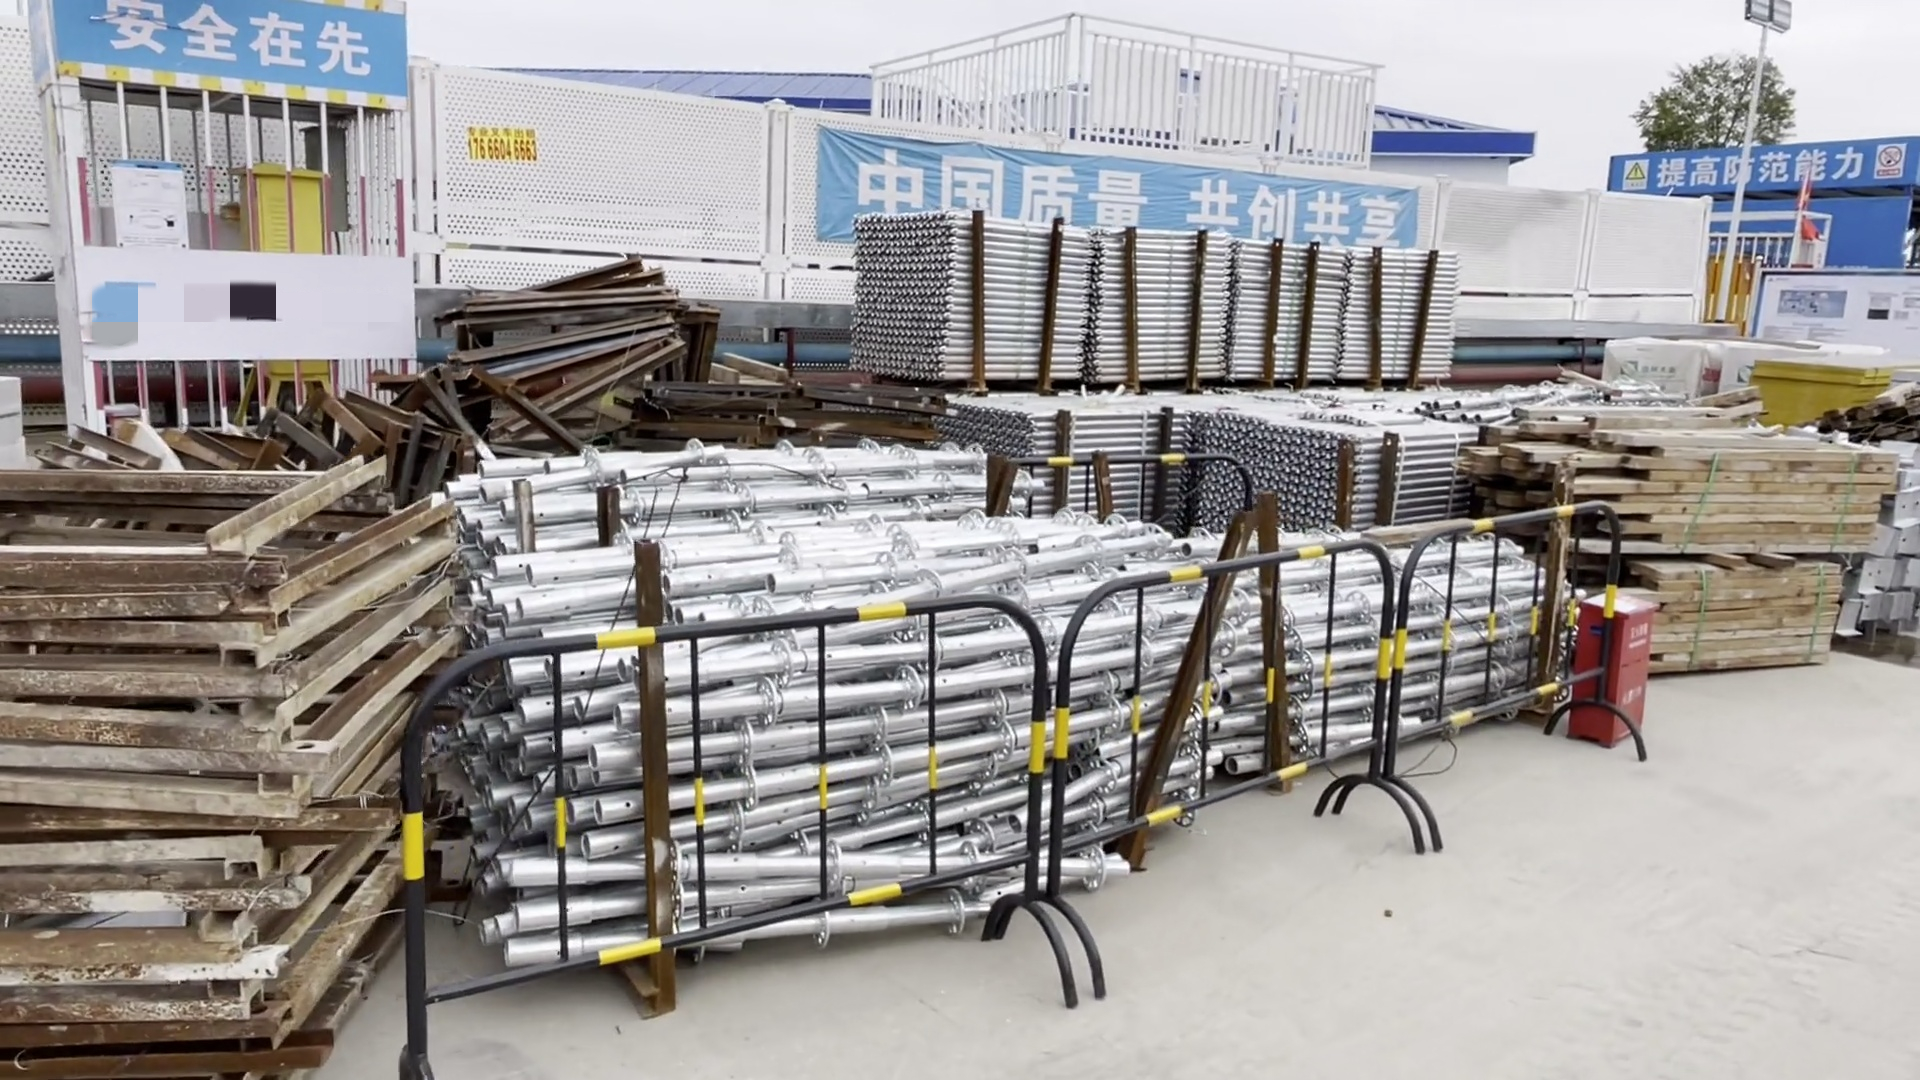scaffold: (462, 455, 1573, 953), (832, 220, 1519, 525)
slogan: (806, 116, 1415, 266), (21, 5, 444, 109), (1617, 153, 1904, 204)
wood: (1543, 404, 1895, 716)
